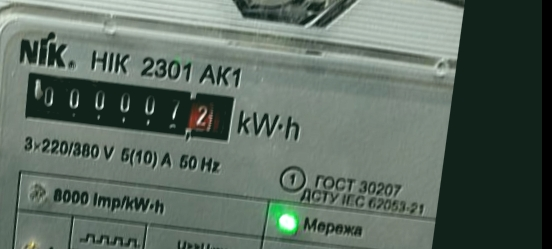0: (42, 83, 59, 108), (119, 90, 136, 115), (144, 92, 160, 117), (68, 86, 84, 110), (94, 88, 110, 112)
2: (196, 103, 212, 128)
7: (169, 96, 184, 121)
screen: (13, 58, 247, 154)
